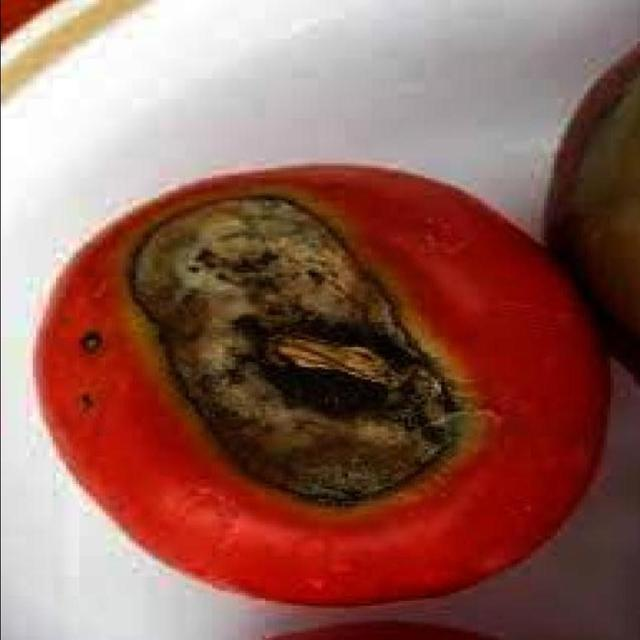Blossom End Rot Fruit: (15, 21, 235, 264)
